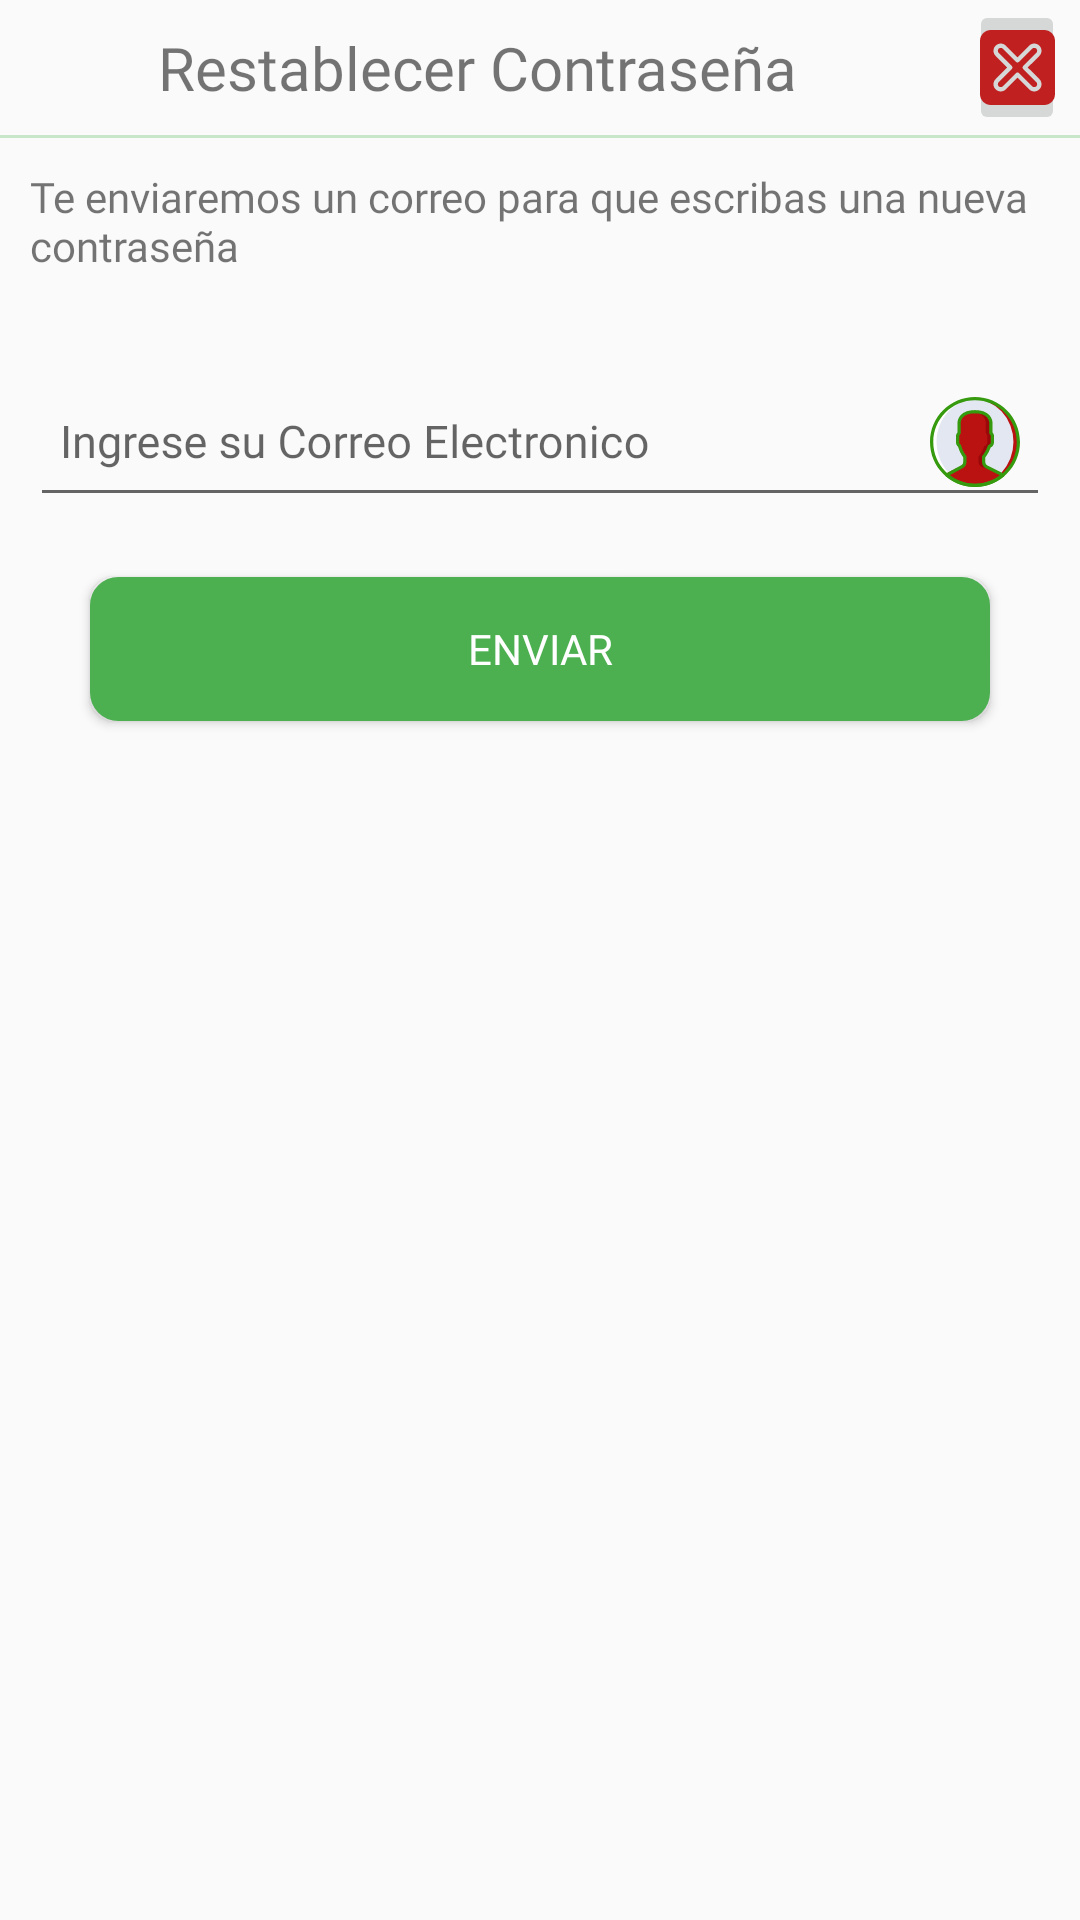

Named icons in this screenshot (1080x1920) and their bounding boxes, (x1, y1, x2, y2):
cerrar: (980, 18, 1055, 117)
